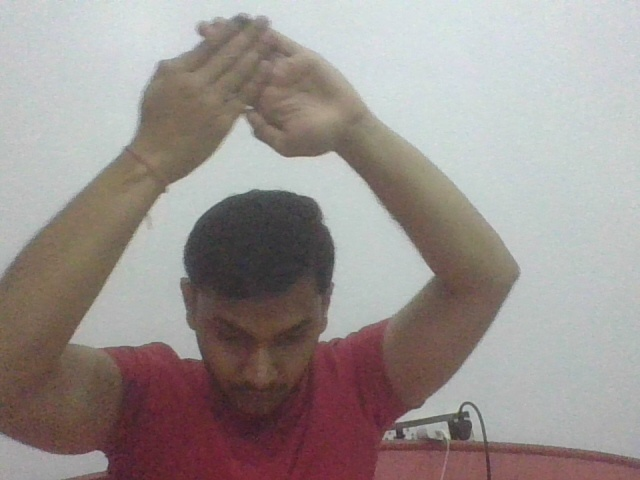H: (128, 9, 350, 166)
